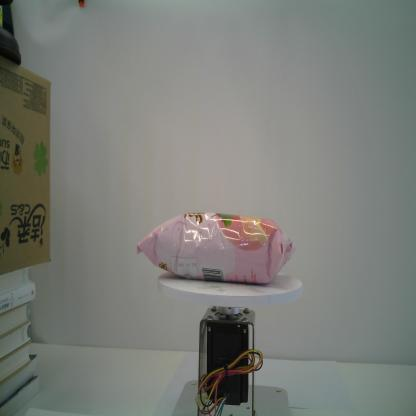Puffed Food: (136, 211, 297, 285)
